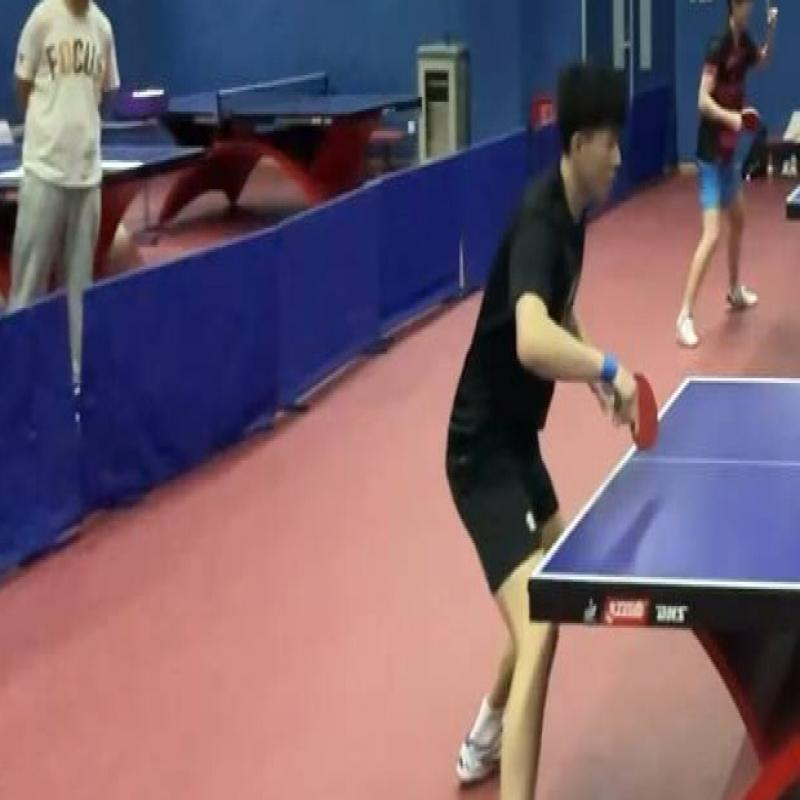bats: (614, 366, 667, 461)
